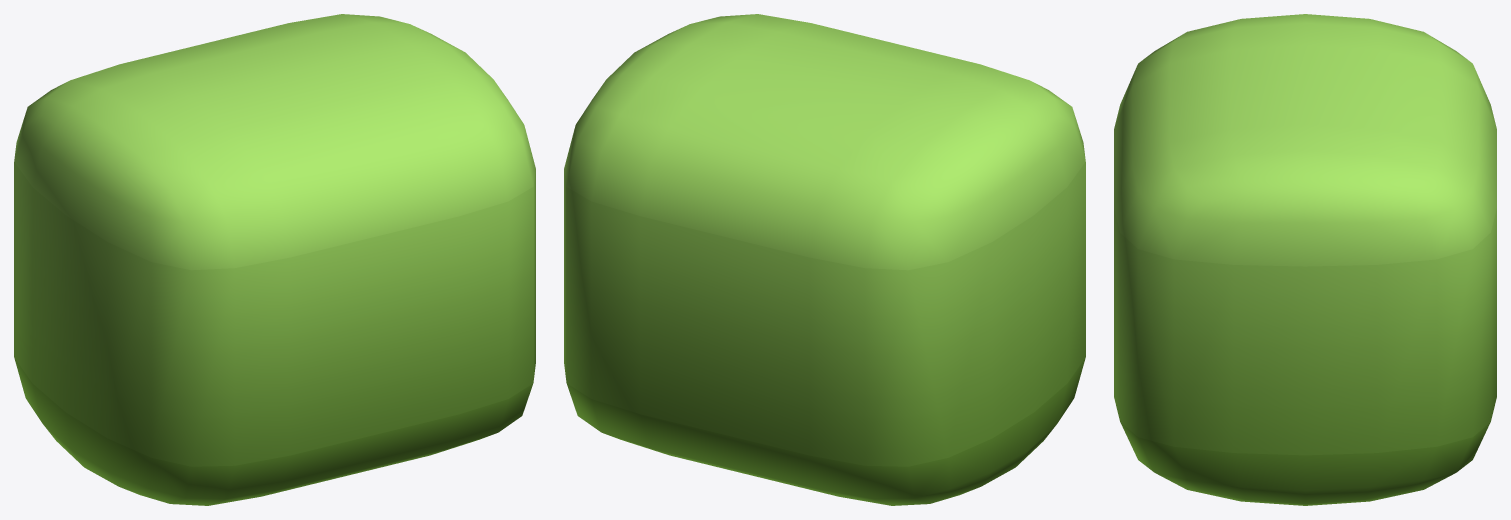
File: grass_4.fbx
3 views of the same model, side by side, from view 1: azimuth 30°, elevation 25°; view 2: azimuth 150°, elevation 25°; view 3: azimuth 270°, elevation 25° (orthographic). The views are drawn at different scales.
Visible parts, largest first — view 1: grass_4; view 2: grass_4; view 3: grass_4.
Part boxes in pixels (left/top/right/bottom): grass_4: left=14, top=14, right=535, bottom=505; grass_4: left=564, top=14, right=1085, bottom=505; grass_4: left=1114, top=14, right=1496, bottom=505.
Size of the model in its own units: 79.58 by 66.35 by 65.88.
1 material, 1 textured.
